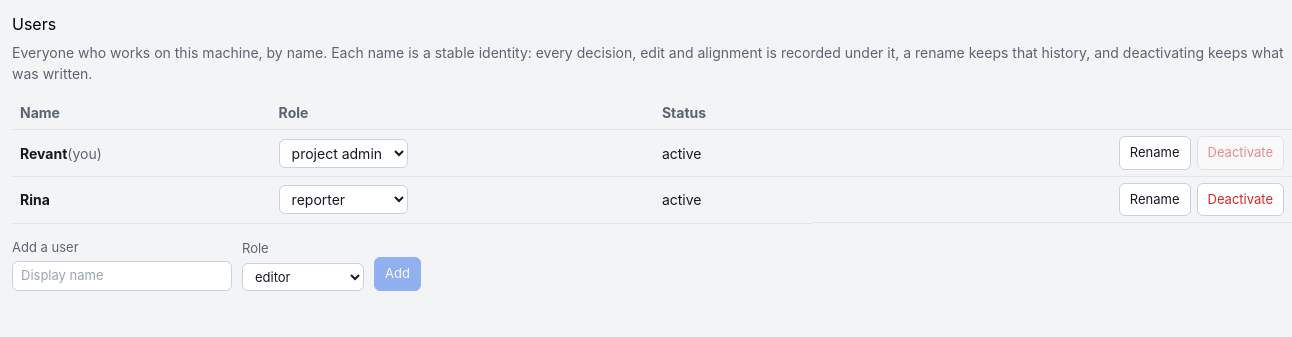
Test case: UsersPane (#237) › shows the engine's refusal
Expected: the text "Rina" is shown, [20,191,50,208]
Click the button "Deactivate" in the row of "Rina".
click(1240, 199)  # box [1196,182,1284,216]
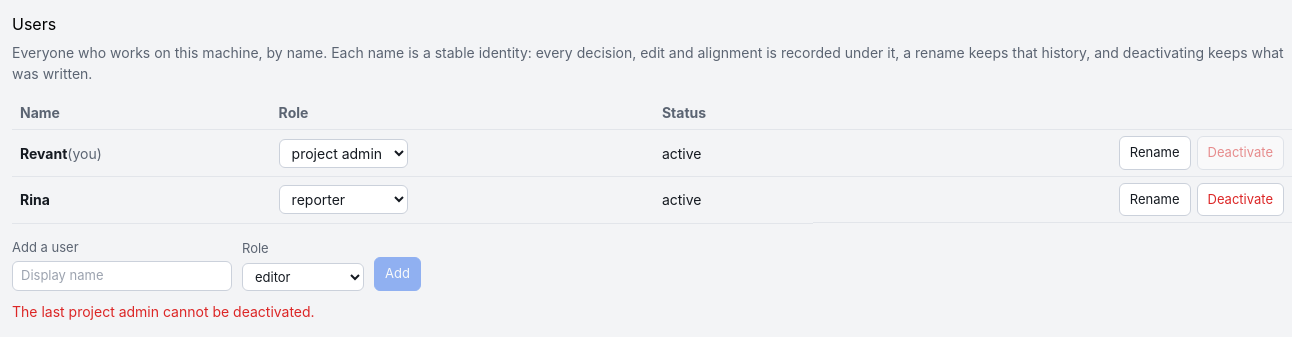
Now the text "The last project admin cannot be deactivated." is shown, box [12,302,315,320]
